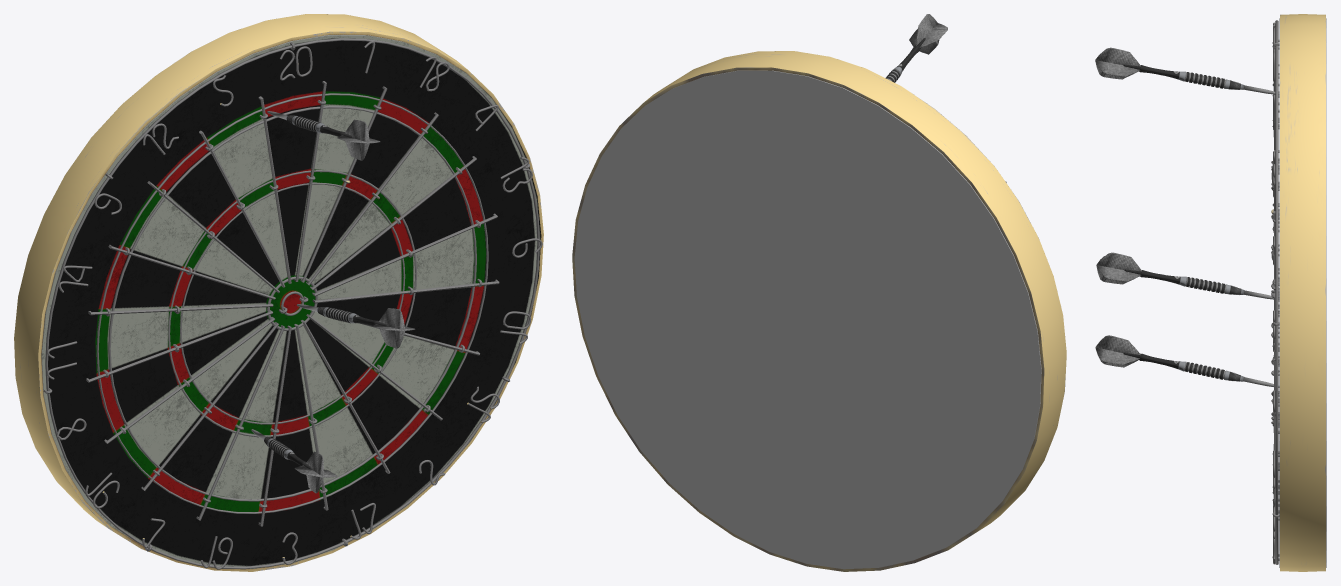
Rendered from dartboard.glb.
3 views of the same model, side by side, from view 1: azimuth 30°, elevation 25°; view 2: azimuth 150°, elevation 25°; view 3: azimuth 270°, elevation 25° (orthographic). The views are drawn at different scales.
Visible parts, largest first — view 1: Cylinder; view 2: Cylinder; view 3: Cylinder.
Part boxes in pixels (<box>): Cylinder: <box>14,14,543,571</box>; Cylinder: <box>572,14,1066,571</box>; Cylinder: <box>1095,14,1326,571</box>.
Bounding box in the file's own units: 0.4495 × 0.4489 × 0.1859.
2 materials, 2 textured.
